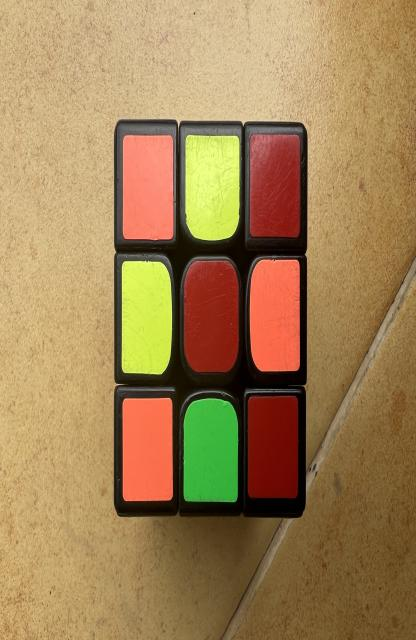Green: (184, 398, 238, 503)
Orange: (249, 260, 300, 372), (123, 135, 174, 240), (123, 398, 173, 502)
Red: (184, 260, 239, 372), (250, 133, 300, 238), (248, 397, 298, 498)
Yellow: (185, 135, 240, 240), (122, 260, 172, 375)
